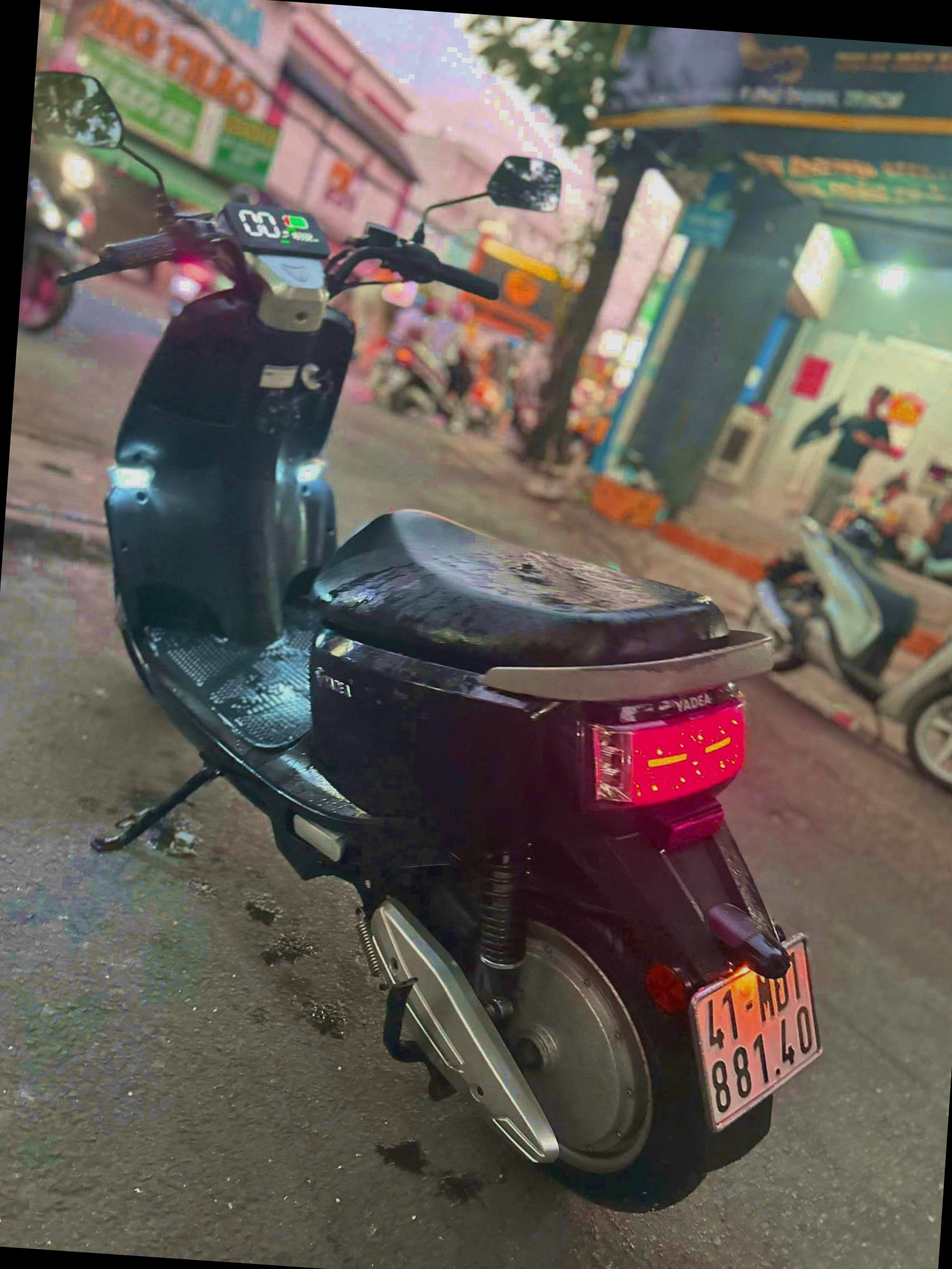Bien-so: (714, 863, 859, 1080)
